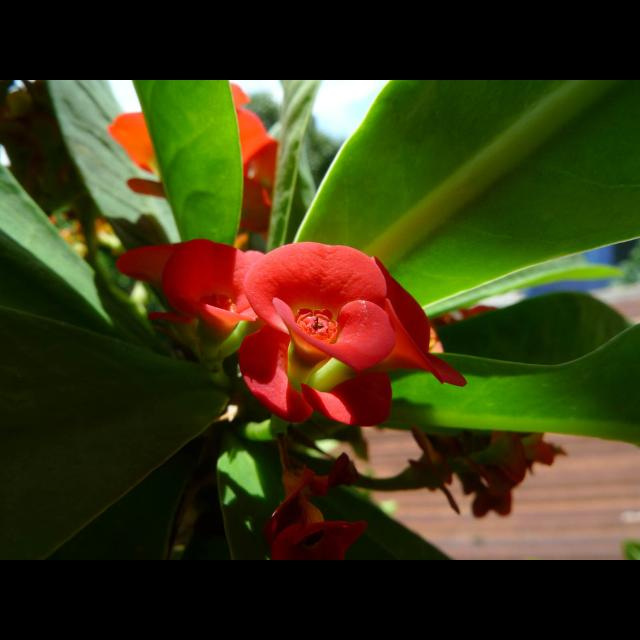Flower: (208, 230, 440, 418), (106, 82, 280, 242), (116, 237, 268, 367), (428, 429, 566, 518), (262, 462, 368, 560), (410, 426, 460, 516), (327, 451, 357, 492), (429, 312, 456, 348), (462, 306, 500, 318)
